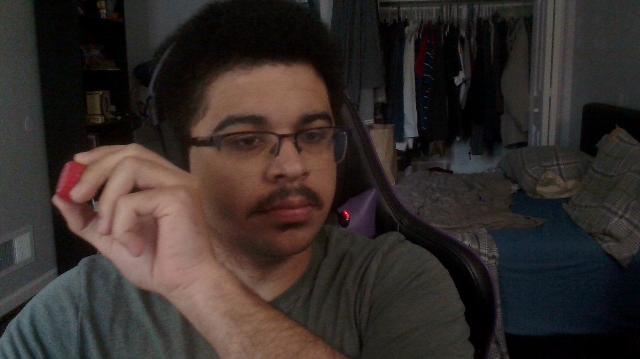cap: (58, 161, 84, 201)
